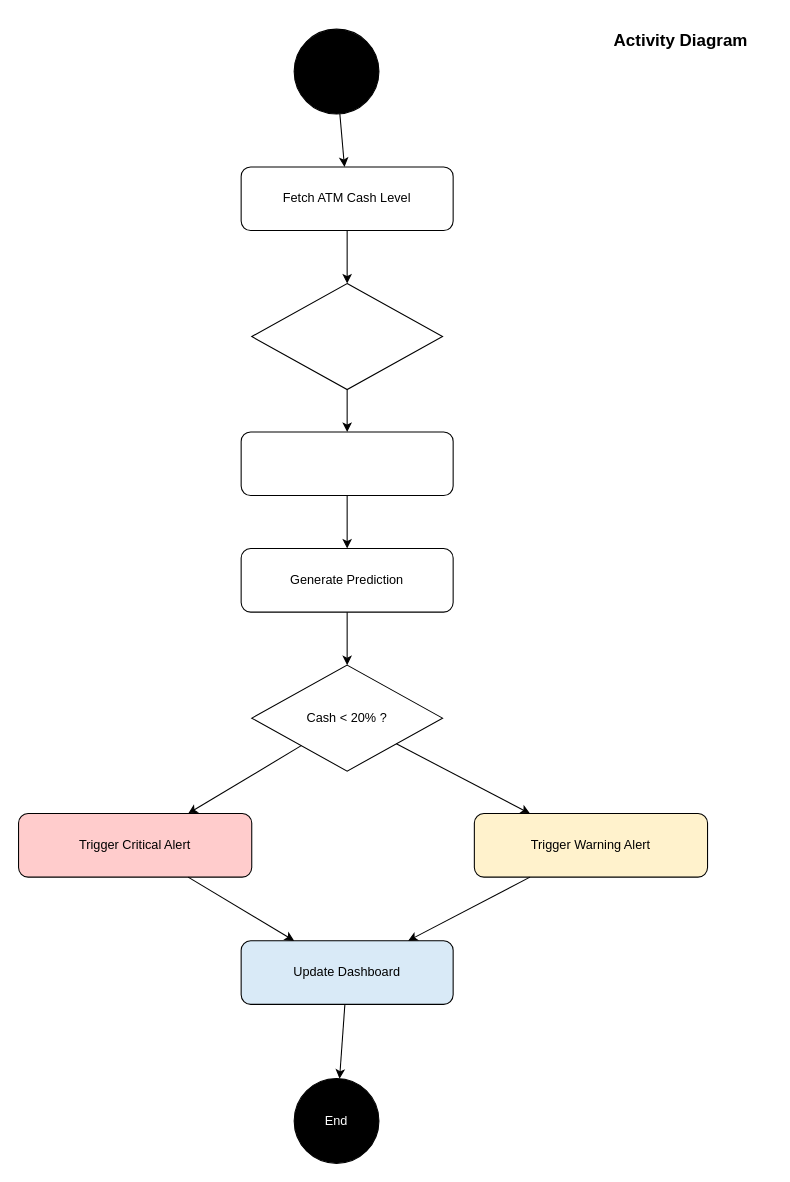
This 790x1182 diagram has some shape labels left out. Each missing label, with the centre of its shape:
"Classify Cash Level" goes at (347,336).
"Run Forecasting Engine" goes at (346,463).
"Start" goes at (336,71).
